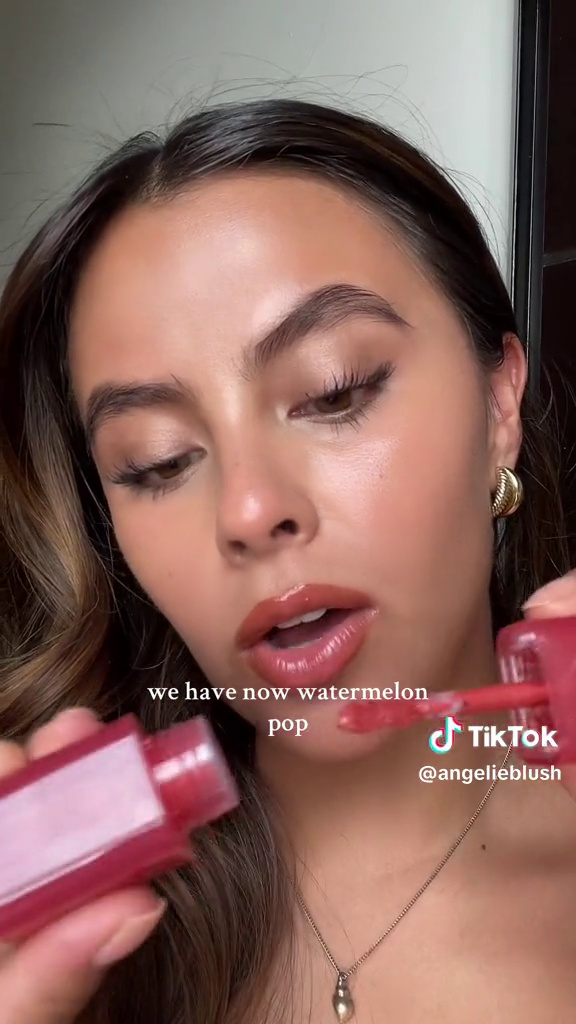train' :'yolo_data/train/images',: (1, 701, 245, 957), (321, 614, 574, 804)
